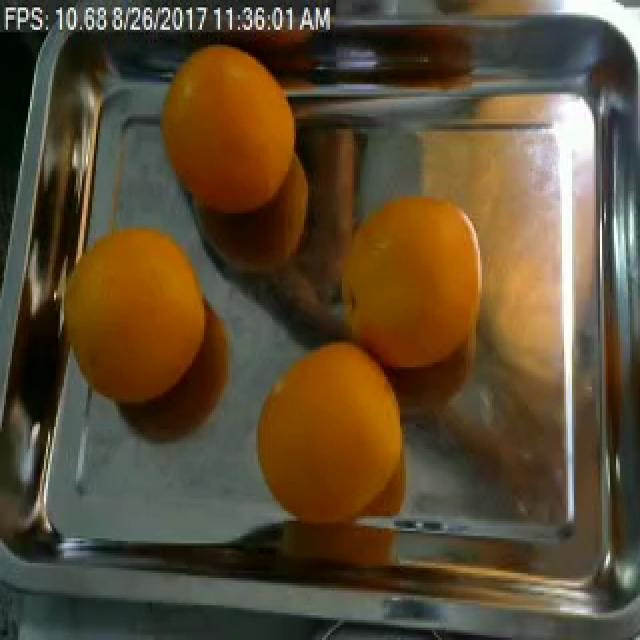Fruit: (238, 320, 420, 541)
